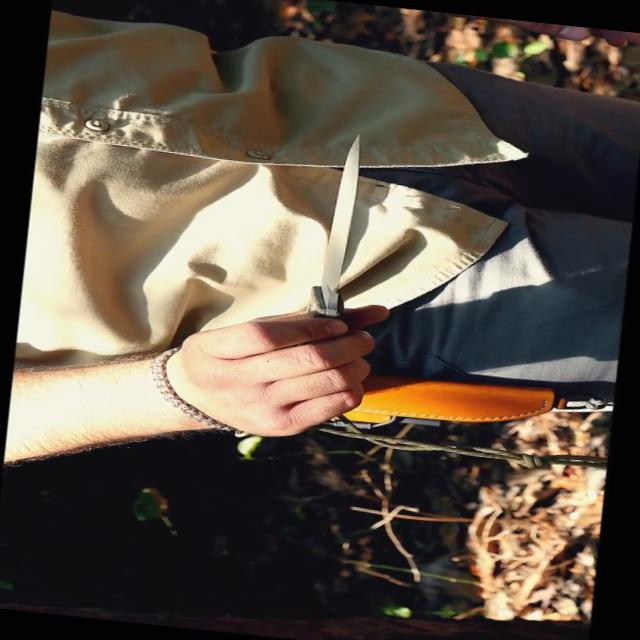knife: (224, 114, 415, 430)
